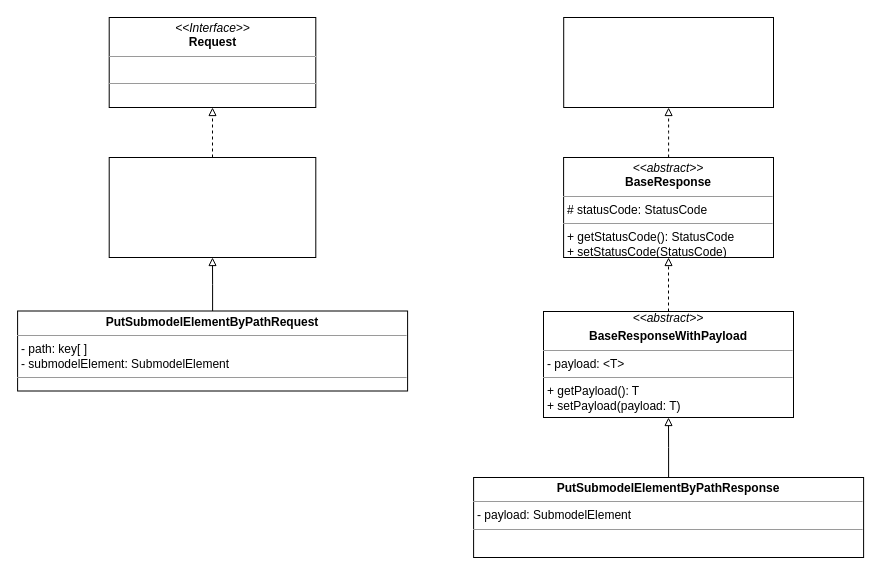
The diagram is 881 pixels wide and 575 high, and some of its shapes have lost their labels. The centre of each missing label's shape, as x and y in pixels:
"<<abstract>> BaseRequest" goes at (212,207).
"<<Interface>> Response" goes at (668,62).
